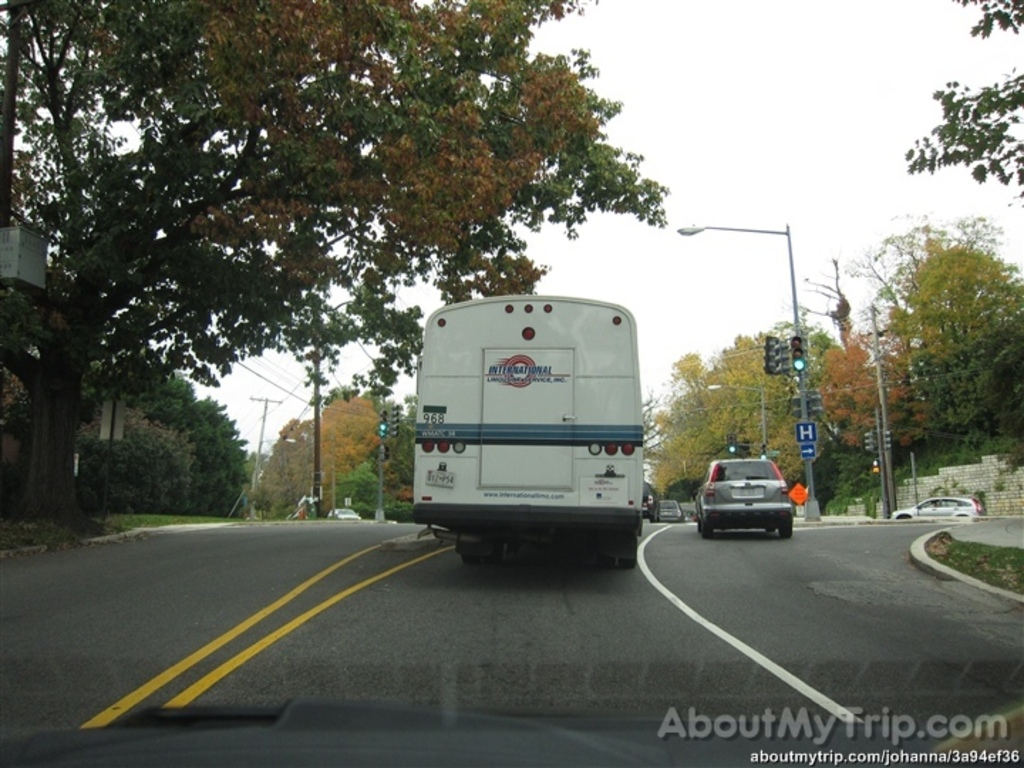Car: (694, 457, 795, 541), (887, 493, 984, 519), (641, 479, 662, 523), (667, 499, 684, 526), (325, 507, 358, 517)
